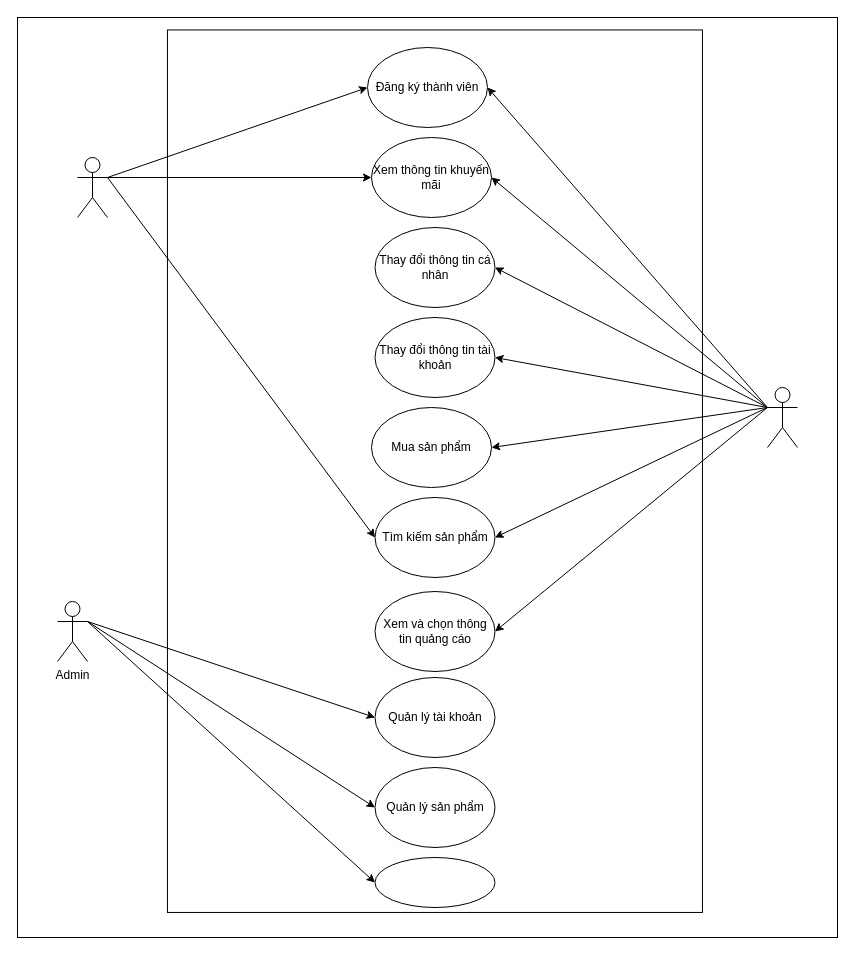
Image size: 855x955. Some labels were removed from this diagram. Each missing label, with the box of its shape:
Người dùng tự do: (766, 386, 798, 448)
Quản lý đơn hàng: (374, 856, 495, 908)
Thành viên: (76, 156, 108, 218)
